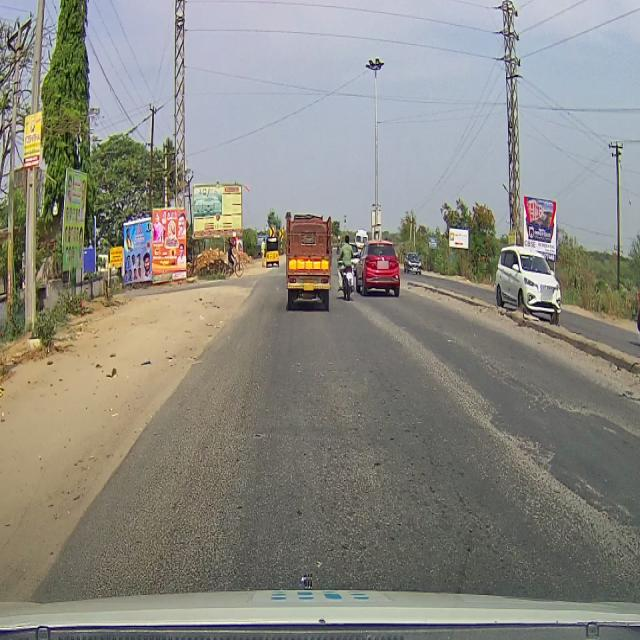car ahead at: (283, 207, 334, 307), (358, 234, 402, 299)
motorcycle ahead at: (337, 257, 355, 299)
